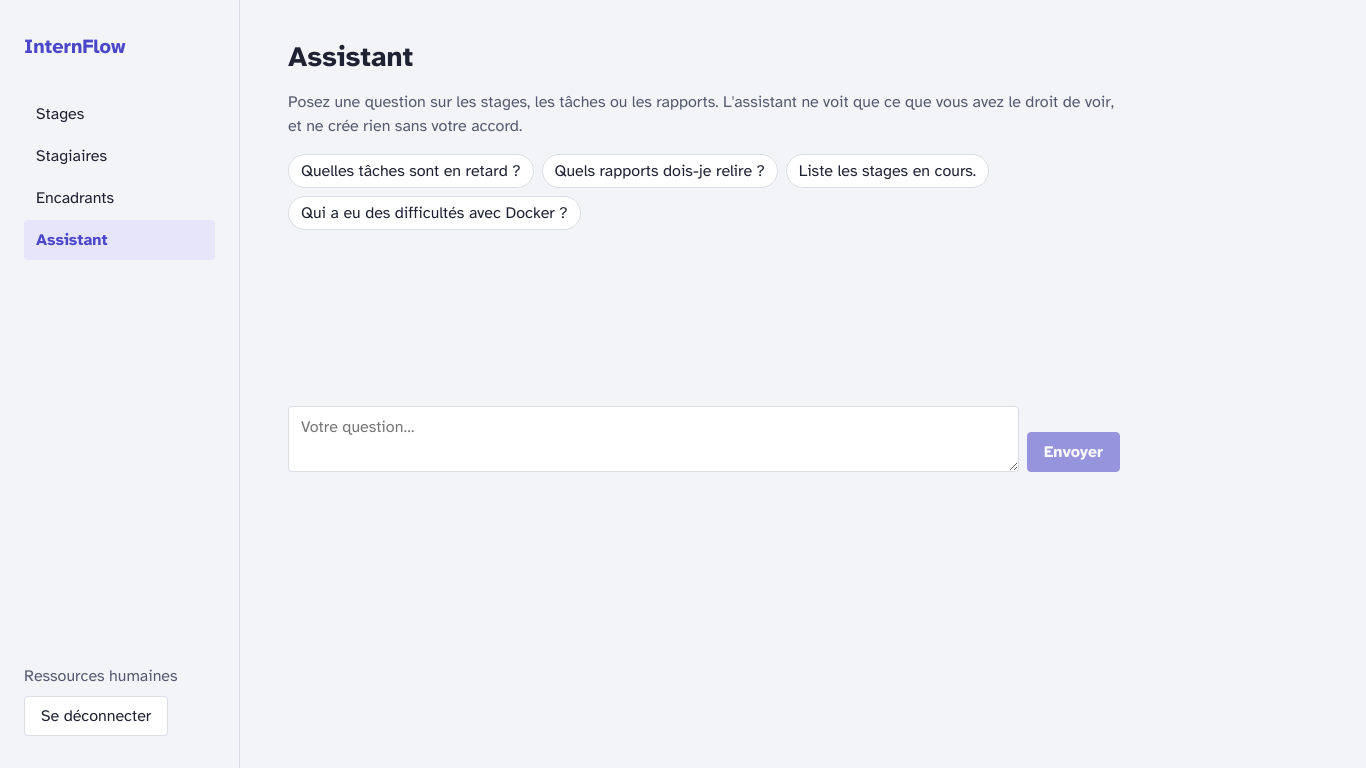
Test: assistant › explique quand le modèle ne répond pas
Step 1. Click the button "Liste les stages en cours." → (887, 171), box [786,154,989,188]
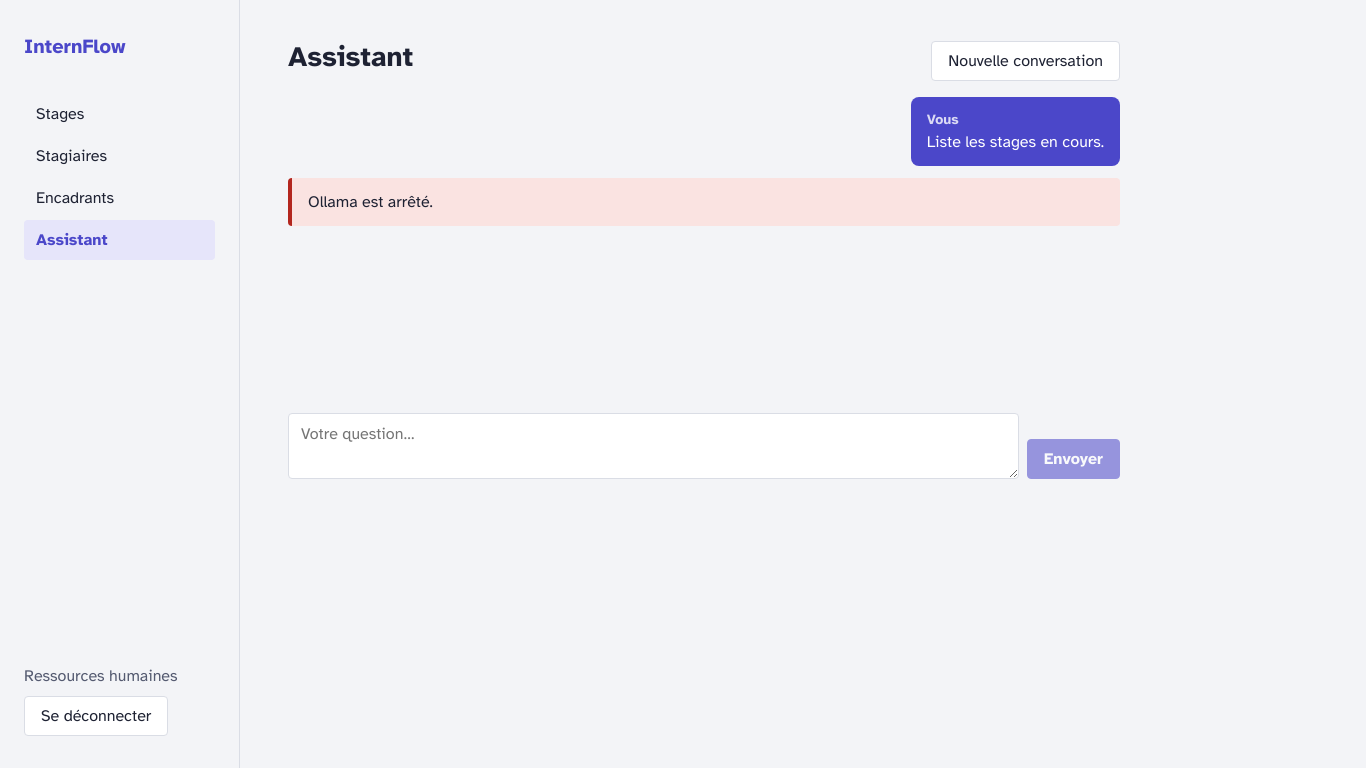
Expected: the message reads "Ollama est arrêté.", [308,192,433,212]
